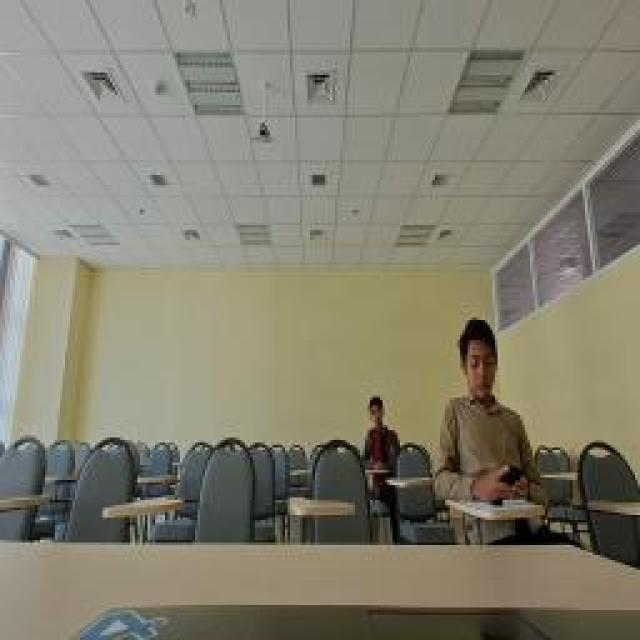phone: (438, 315, 552, 505)
study: (365, 395, 397, 467)
